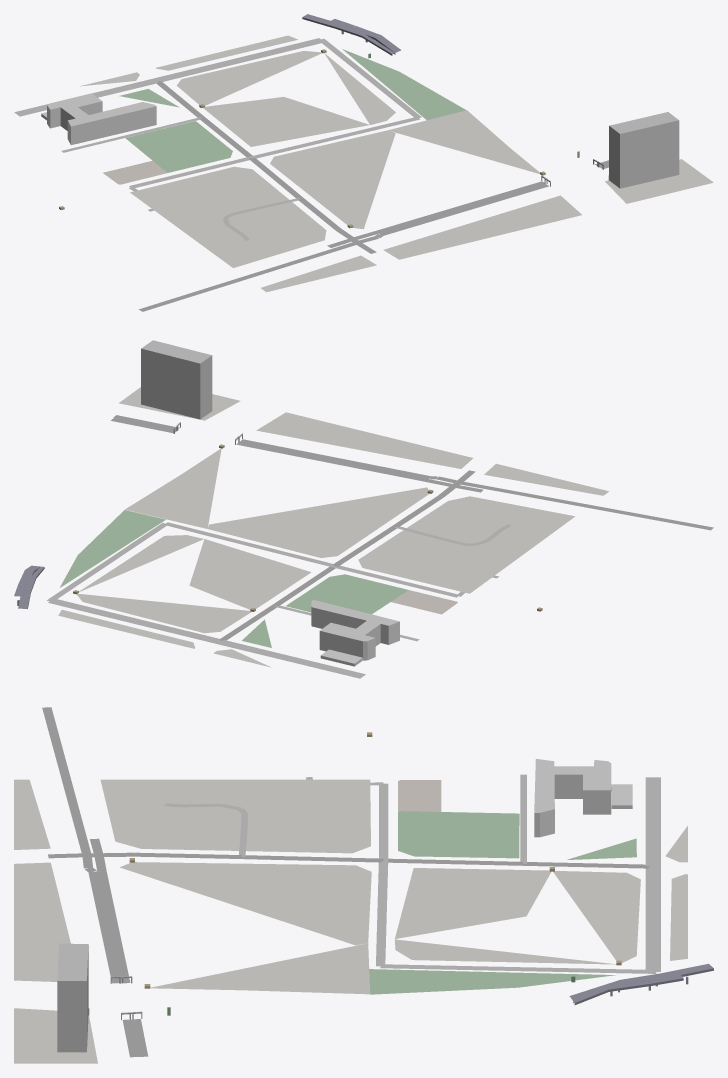
3 renders of one model, top to bottom at view 1: azimuth 30°, elevation 25°; view 2: azimuth 150°, elevation 25°; view 3: azimuth 270°, elevation 25°, orthographic. The views are drawn at different scales.
Bounding box in the file's own units: 627 × 61.43 × 519.
